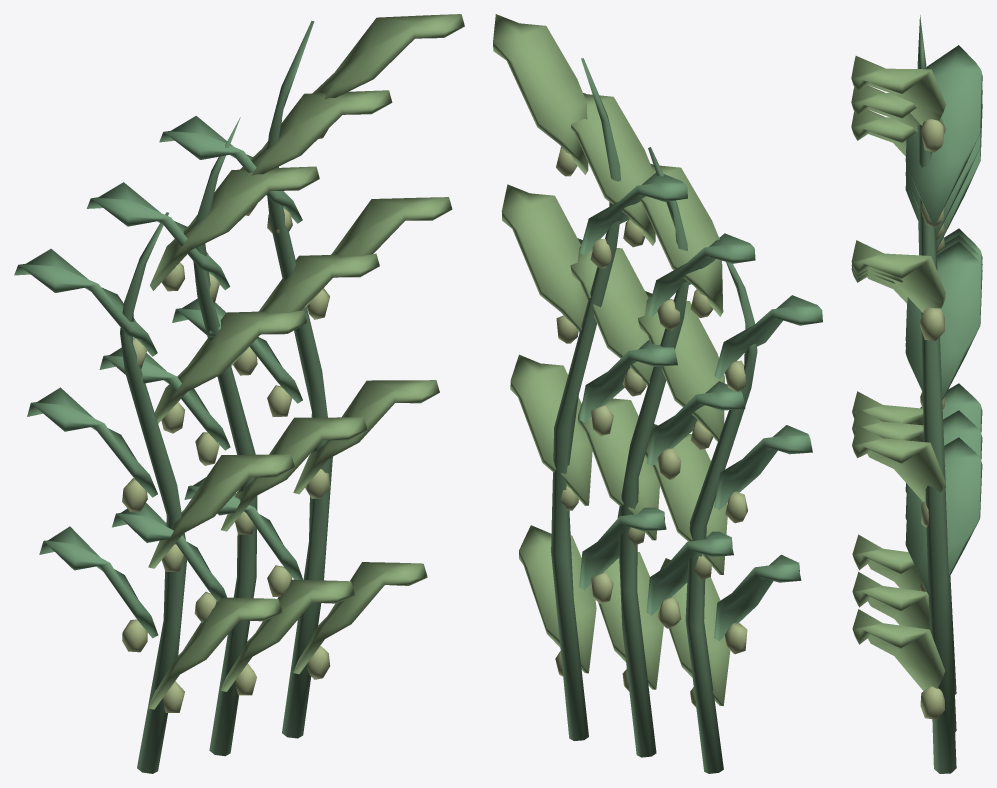
Rendered from reef_kelp.glb.
3 views of the same model, side by side, from view 1: azimuth 30°, elevation 25°; view 2: azimuth 150°, elevation 25°; view 3: azimuth 270°, elevation 25° (orthographic). The views are drawn at different scales.
Visible parts, largest first — view 1: reef_kelp_painted_mesh; view 2: reef_kelp_painted_mesh; view 3: reef_kelp_painted_mesh.
Part boxes in pixels (x1,y1,x2,y2): reef_kelp_painted_mesh: [14, 14, 464, 773]; reef_kelp_painted_mesh: [493, 14, 822, 773]; reef_kelp_painted_mesh: [851, 15, 982, 773].
Size of the model in its own units: 1.94 by 3.33 by 0.5215.
